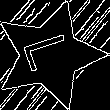L_E: (19, 33, 80, 78)
